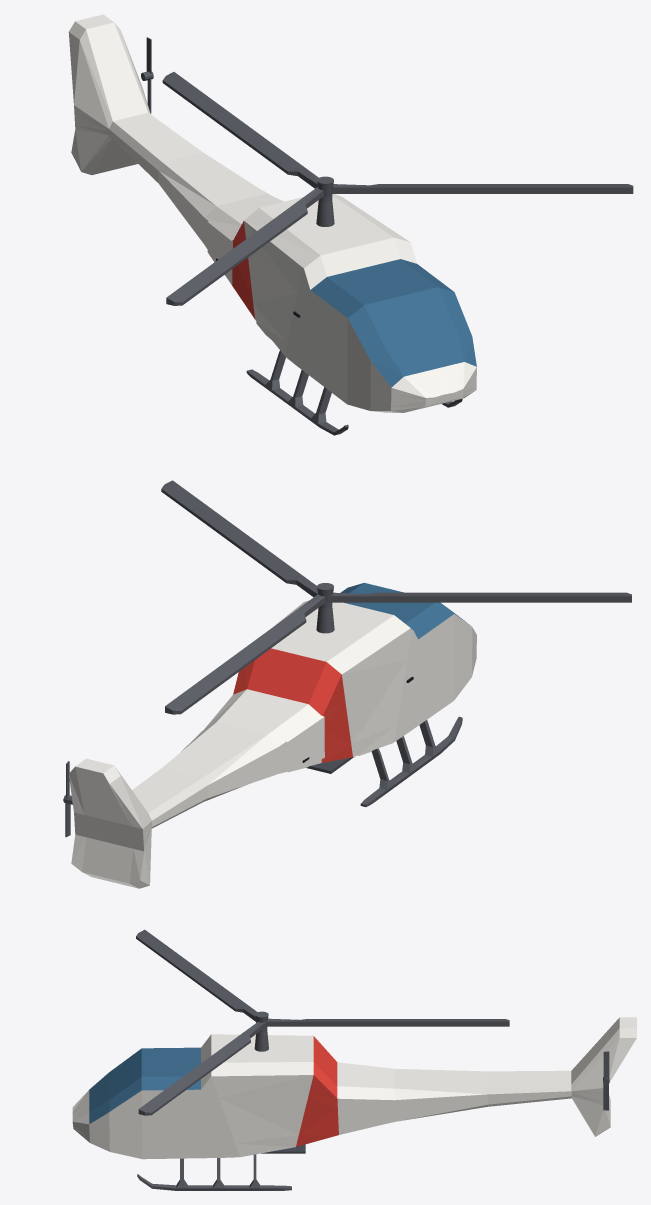
Rendered from helicopter_parts.glb.
3 renders of one model, top to bottom at view 1: azimuth 30°, elevation 25°; view 2: azimuth 150°, elevation 25°; view 3: azimuth 270°, elevation 25°, orthographic. The views are drawn at different scales.
Visible parts, largest first — view 1: Heli_Body, Heli_Glass, Heli_MainRotor, Heli_DoorR, Heli_Skids, Heli_Hatch; view 2: Heli_Body, Heli_MainRotor, Heli_DoorR, Heli_Glass, Heli_Skids, Heli_Hatch; view 3: Heli_Body, Heli_MainRotor, Heli_Glass, Heli_Skids.
Part boxes in pixels (x1,y1,x2,y2): Heli_Body: (68, 14, 476, 412); Heli_Glass: (311, 259, 476, 387); Heli_MainRotor: (162, 72, 633, 305); Heli_DoorR: (256, 243, 322, 379); Heli_Skids: (246, 350, 462, 435); Heli_Hatch: (207, 215, 232, 281); Heli_Body: (68, 600, 476, 888); Heli_MainRotor: (161, 480, 631, 714); Heli_DoorR: (358, 629, 432, 756); Heli_Glass: (340, 582, 467, 639); Heli_Skids: (360, 716, 462, 806); Heli_Hatch: (280, 716, 324, 772); Heli_Body: (72, 1017, 636, 1159); Heli_MainRotor: (136, 929, 509, 1115); Heli_Glass: (89, 1047, 200, 1123); Heli_Skids: (137, 1154, 291, 1190).
Size of the model in its own units: 6.71 by 2.29 by 8.44.
